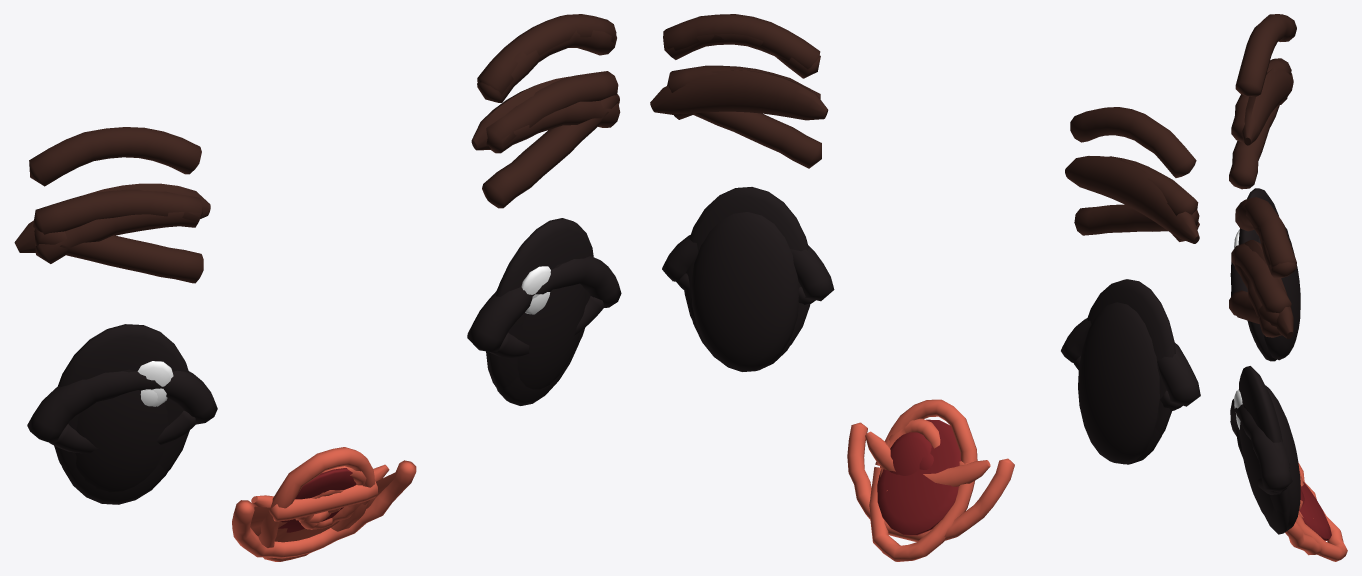
Rendered from pack_face.glb.
3 renders of one model, left to right at view 1: azimuth 30°, elevation 25°; view 2: azimuth 150°, elevation 25°; view 3: azimuth 270°, elevation 25°, orthographic. The views are drawn at different scales.
Visible parts, largest first — view 1: Face_Surprise, Face_Smile, Face_Default, Face_Focus, Face_Sleepy, Face_Curious; view 2: Face_Default, Face_Surprise, Face_Smile, Face_Focus, Face_Curious, Face_Sleepy; view 3: Face_Surprise, Face_Default, Face_Smile, Face_Focus, Face_Curious, Face_Sleepy.
Boxes of the visible parts, x1,y1,x2,y2 form: Face_Surprise: [29, 14, 616, 561]; Face_Smile: [27, 71, 621, 558]; Face_Default: [14, 76, 619, 512]; Face_Focus: [34, 94, 619, 521]; Face_Sleepy: [35, 100, 620, 524]; Face_Curious: [62, 30, 616, 529]; Face_Default: [650, 70, 1199, 486]; Face_Surprise: [663, 14, 1196, 561]; Face_Smile: [662, 65, 1200, 541]; Face_Focus: [693, 111, 1199, 465]; Face_Curious: [663, 33, 1162, 490]; Face_Sleepy: [674, 113, 1199, 469]; Face_Surprise: [1234, 14, 1347, 561]; Face_Default: [1239, 69, 1303, 531]; Face_Smile: [1230, 58, 1325, 555]; Face_Focus: [1229, 103, 1280, 326]; Face_Curious: [1235, 201, 1313, 534]; Face_Sleepy: [1231, 97, 1287, 494].
Size of the model in its own units: 0.2549 by 0.2081 by 0.0506.
